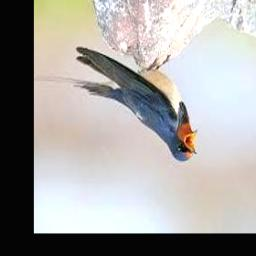Swallow: (74, 47, 197, 161)
